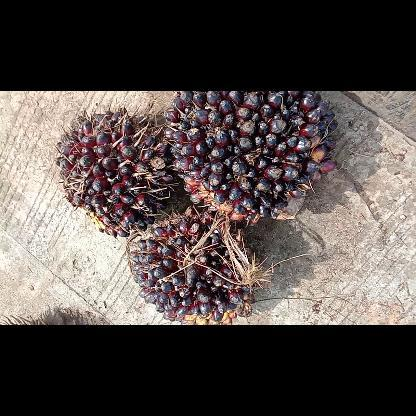TBS mentah: (159, 90, 341, 226), (52, 104, 180, 237), (122, 204, 258, 324)
